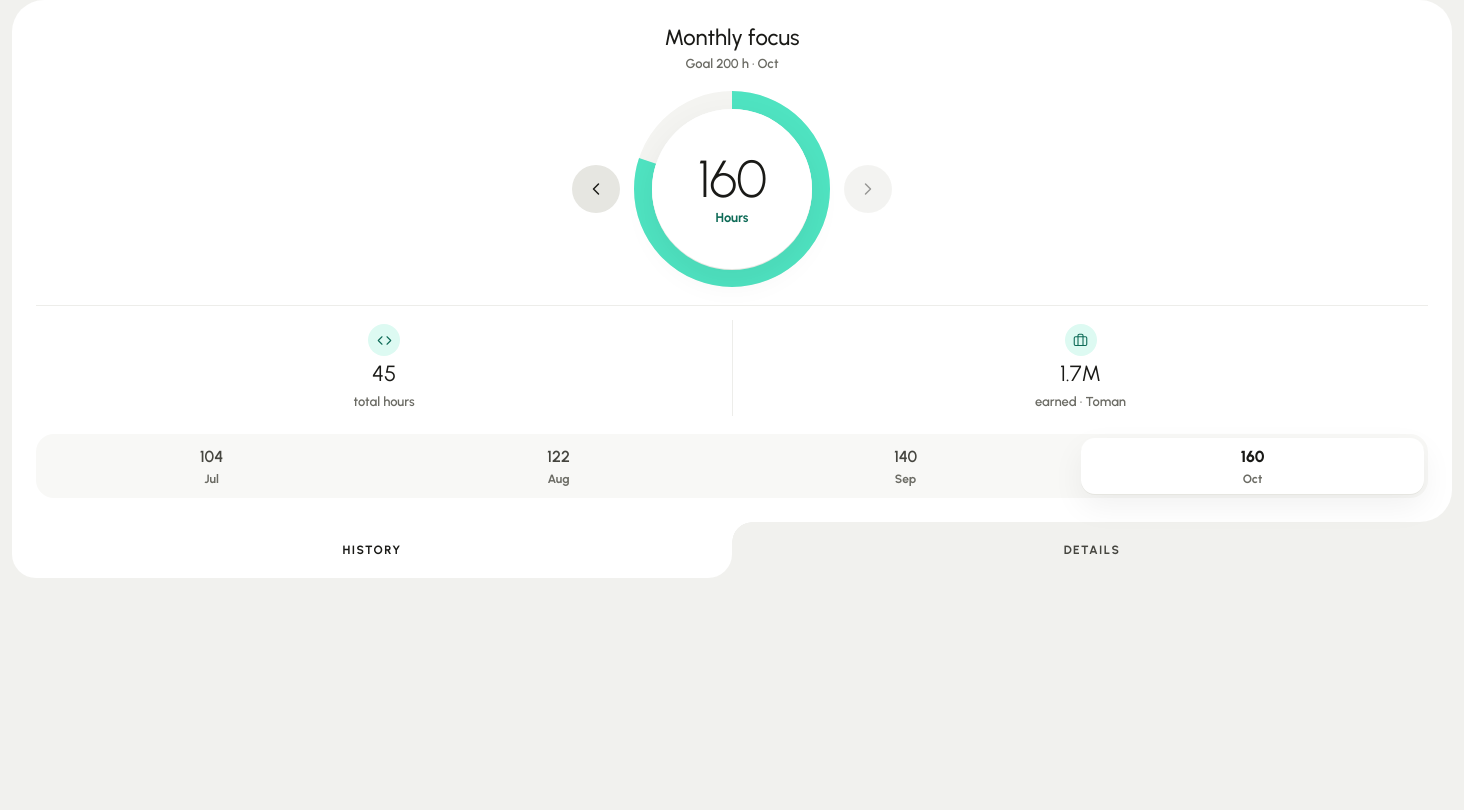
Test: RingCard › steps periods with the arrows and the selector
The image size is (1464, 810).
Expected: the button named "Next" is disabled, top-left (844, 165), bottom-right (892, 213)
Click the button named "Previous".
click(596, 189)  # box top-left (572, 165), bottom-right (620, 213)
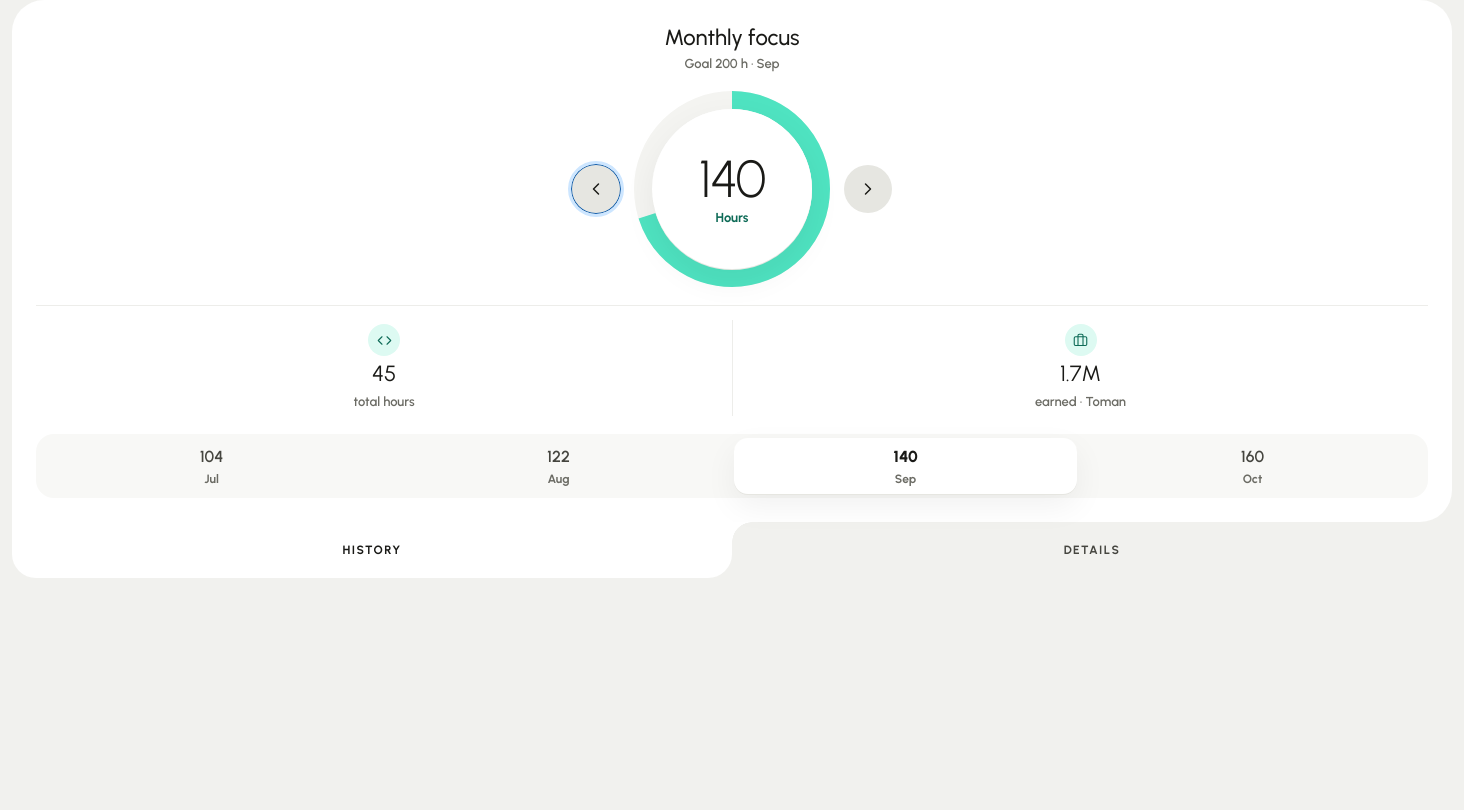
Expected: the progress indicator has attribute aria-valuenow="140", top-left (634, 91), bottom-right (830, 287)
Expected: the radio button labelled "140 Sep" is checked, top-left (734, 438), bottom-right (1077, 494)
Click the radio button labelled "104 Jul".
click(212, 466)  # box top-left (40, 438), bottom-right (383, 494)
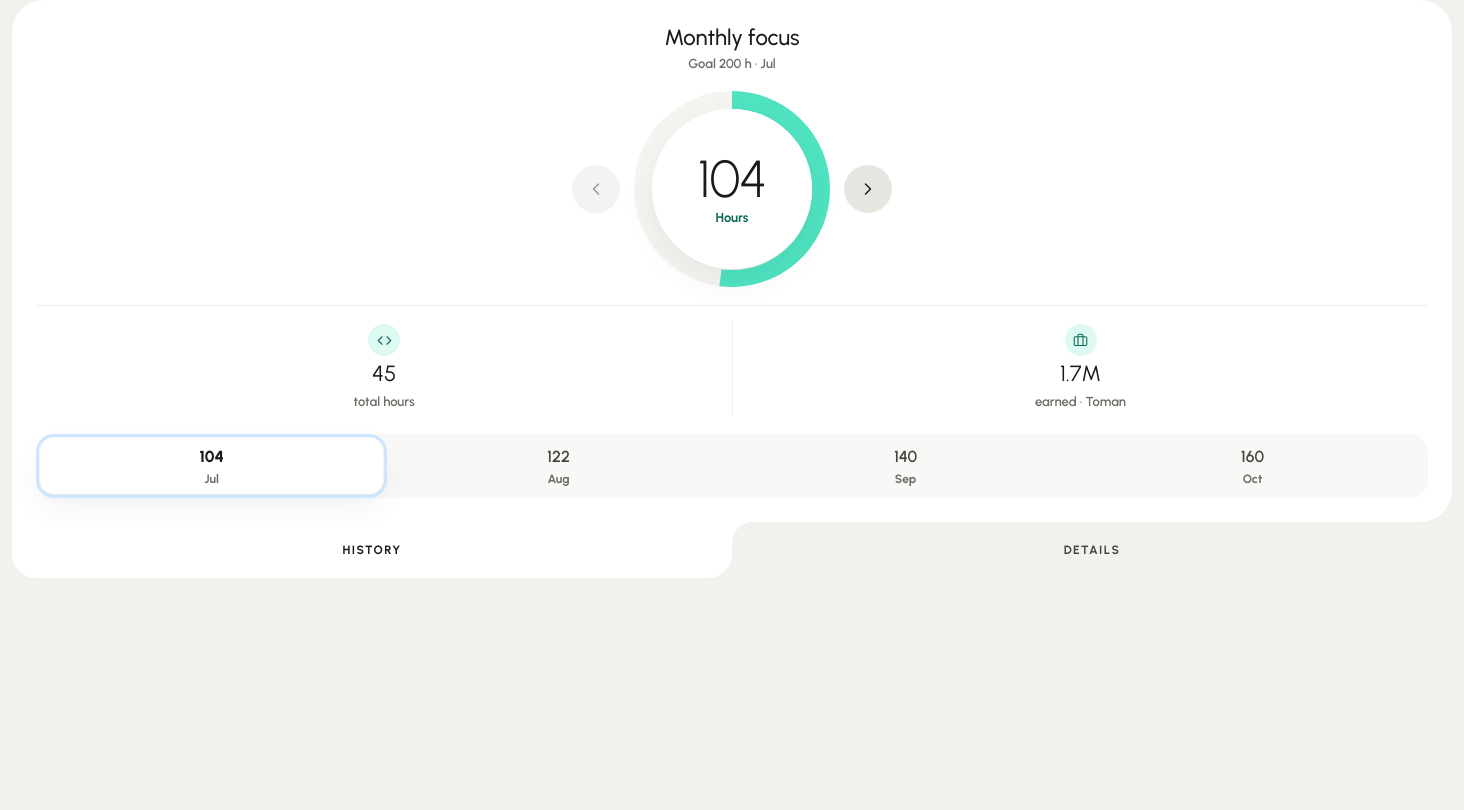
Expected: the button named "Previous" is disabled, top-left (572, 165), bottom-right (620, 213)
